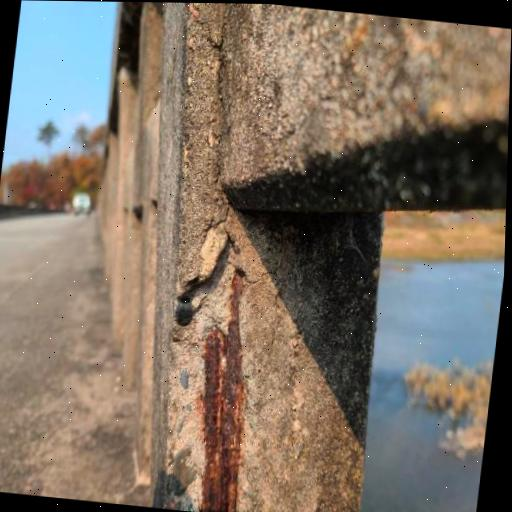exposed_rebar: (202, 273, 244, 512)
